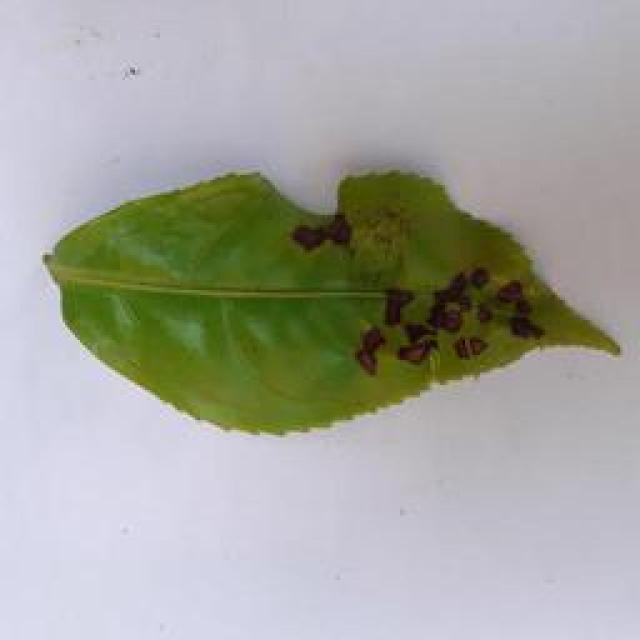Helopeltis: (37, 147, 627, 443)
